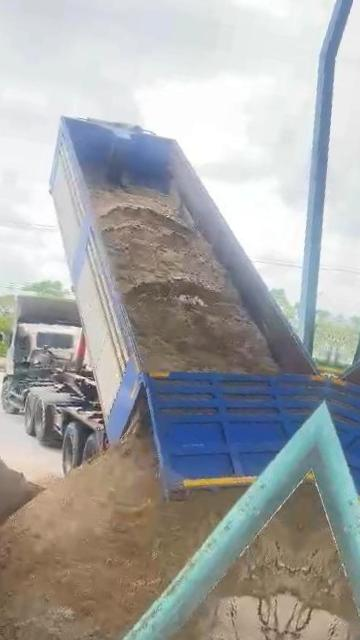sand: (0, 391, 238, 640), (93, 187, 279, 372), (162, 487, 307, 640), (0, 444, 58, 551)
